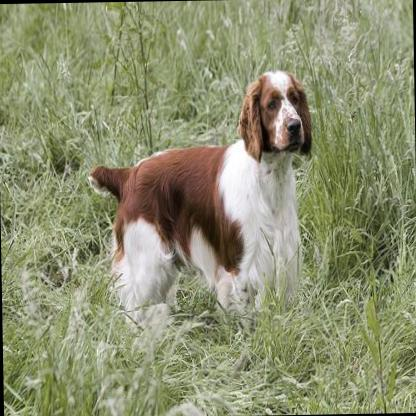Welsh_springer_spaniel: (86, 69, 315, 334)
